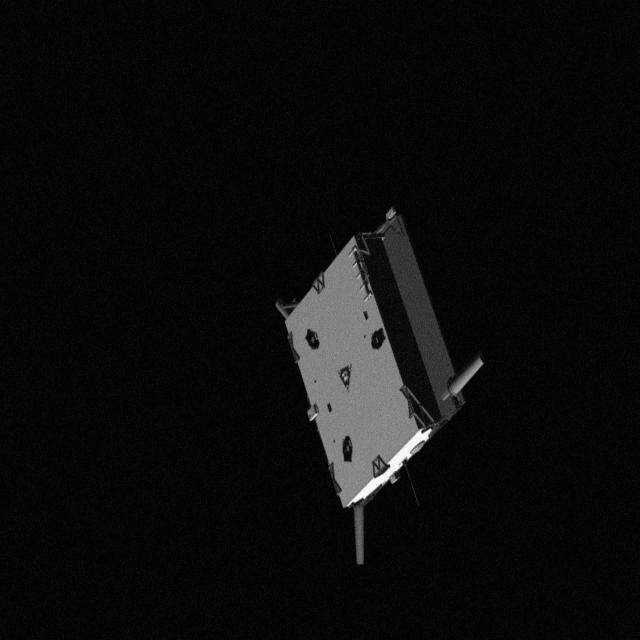medium_debris: (268, 210, 490, 572)
